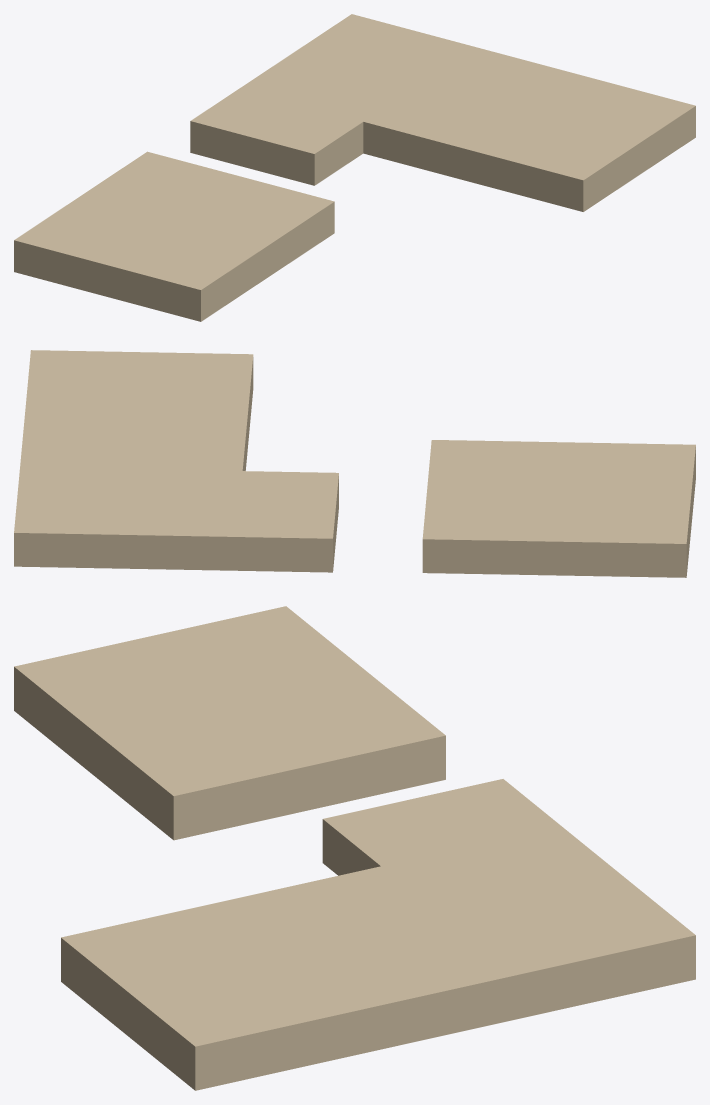
File: -23_13-estimated-coarse.glb
The picture shows the model from 3 angles, top to bottom: view 1: azimuth 30°, elevation 25°; view 2: azimuth 150°, elevation 25°; view 3: azimuth 270°, elevation 25°; orthographic projection. The views are drawn at different scales.
Bounding box in the file's own units: 257 × 12 × 168.
